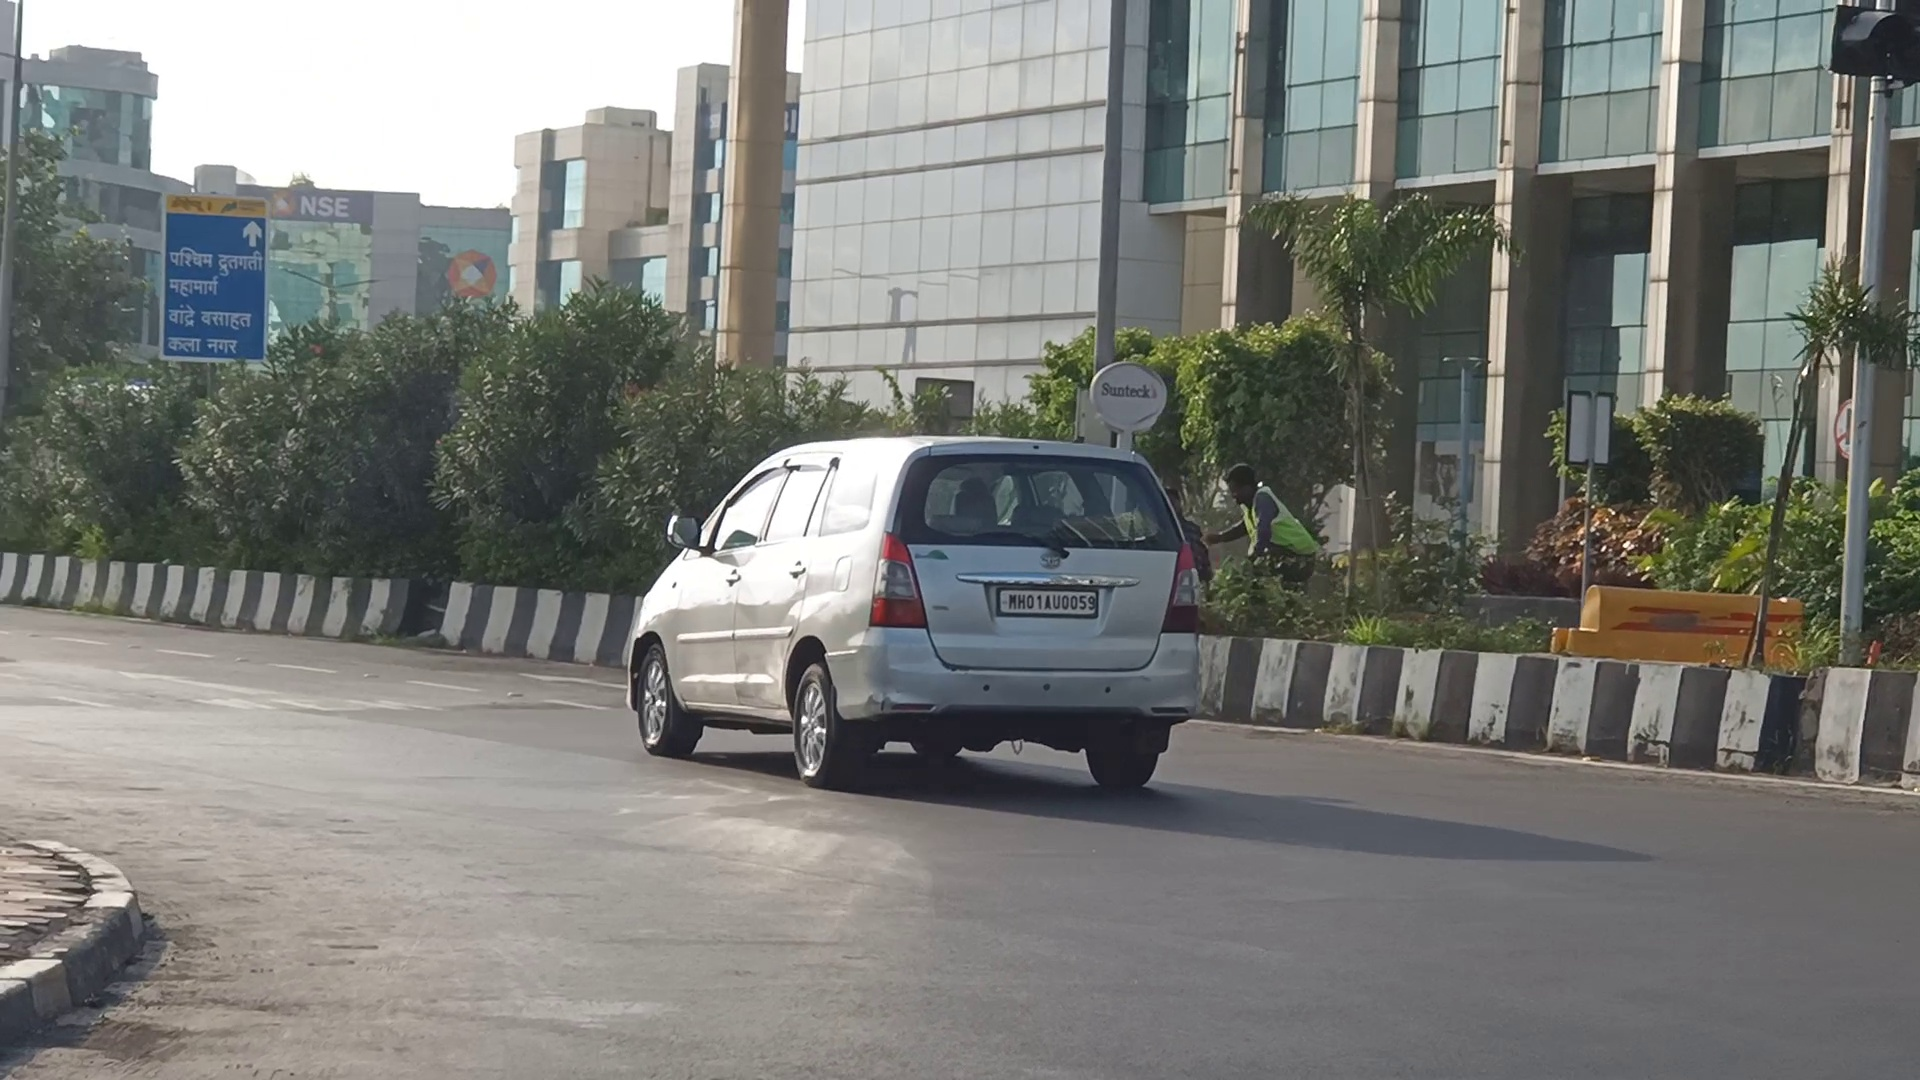MH01AU0059: (1000, 587, 1101, 619)
